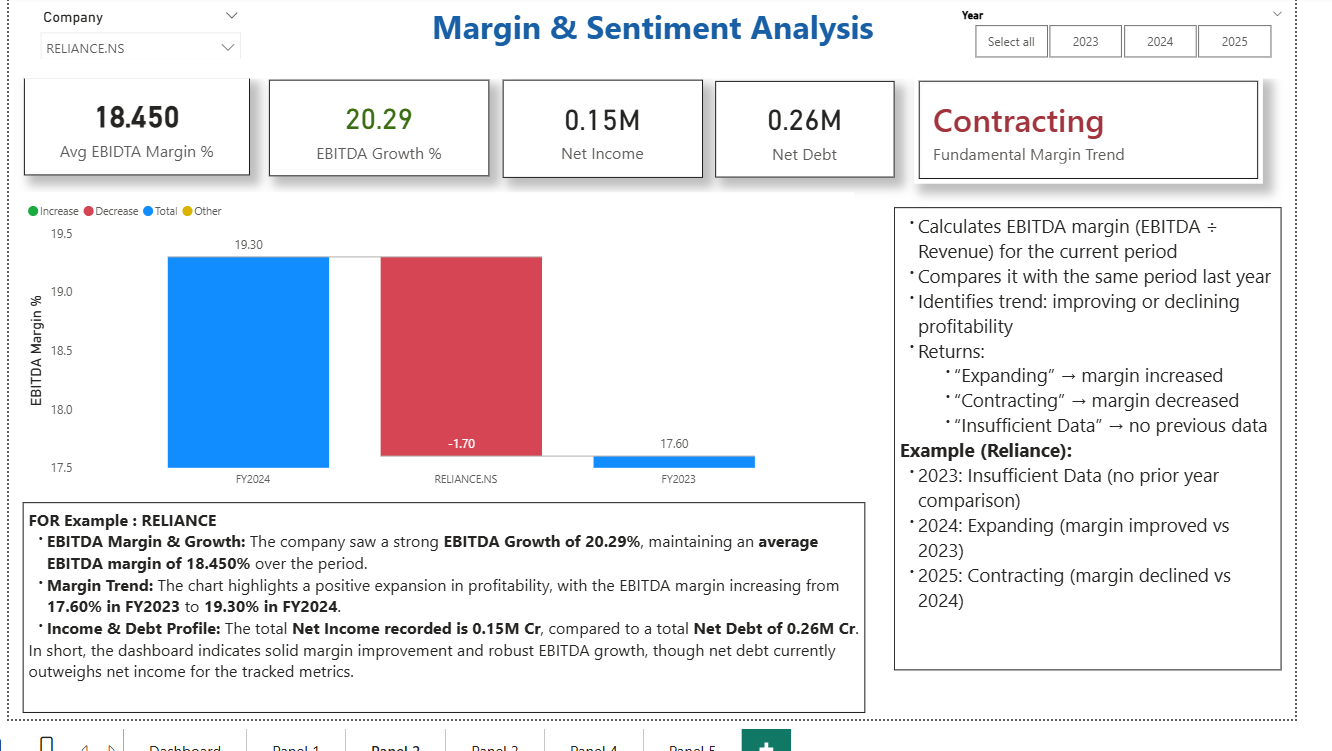

The dashboard page shown, as its layout file describes it:
{"tool":"powerbi","page":{"name":"Panel 2","canvas":[1280,720],"ordinal":2},"visuals":[{"type":"card","fields":{"Values":["Avg(Fact_Fundamentals.EBITDA_Margin_Pct)"]},"box":[15.1,81,225,97.4],"z":0},{"type":"card","fields":{"Values":["Fact_Fundamentals.EBITDA Growth %"]},"box":[259.3,83.7,219.6,96.1],"z":1000},{"type":"card","fields":{"Values":["Sum(Fact_Fundamentals.Net_Income_Cr)"]},"box":[491.3,83.7,199,97.4],"z":2000},{"type":"card","fields":{"Values":["Sum(Fact_Fundamentals.Net_Debt_Cr)"]},"box":[702.6,85.1,178.4,96.1],"z":3000},{"type":"textbox","box":[13.7,503.6,838.4,209.9],"z":4000},{"type":"cardVisual","fields":{"Data":["Fact_Fundamentals.1_Fundamental_Margin_Trend"]},"box":[900.2,79.6,347.2,107],"z":5000},{"type":"textbox","box":[881,209.9,385.6,461.1],"z":6000},{"type":"textbox","box":[15,3.3,1251.7,78.3],"z":7000},{"type":"slicer","fields":{"Values":["Dim_Company.Ticker"]},"box":[20.6,6.9,219.6,54.9],"z":8000},{"type":"waterfallChart","fields":{"Category":["Fact_Fundamentals.Fiscal_Year"],"Y":["Sum(Fact_Fundamentals.EBITDA_Margin_Pct)"],"Breakdown":["Dim_Company.Ticker"]},"box":[13.7,194.9,827.4,301.9],"z":9000},{"type":"slicer","fields":{"Values":["Dim_Date.Year"]},"box":[935.6,6.9,344.4,60.4],"z":10000}]}

Visuals, with their boxes on the page's 1280x720 design canvas (x1, y1, x2, y2). These are canvas units, not pixel positions in the 1332x751 screenshot, which may show the page scaled, cropped or inside an application window:
card - Avg(Fact_Fundamentals.EBITDA_Margin_Pct): [15, 81, 240, 178]
card - Fact_Fundamentals.EBITDA Growth %: [259, 84, 479, 180]
card - Sum(Fact_Fundamentals.Net_Income_Cr): [491, 84, 690, 181]
card - Sum(Fact_Fundamentals.Net_Debt_Cr): [703, 85, 881, 181]
textbox: [14, 504, 852, 714]
cardVisual - Fact_Fundamentals.1_Fundamental_Margin_Trend: [900, 80, 1247, 187]
textbox: [881, 210, 1267, 671]
textbox: [15, 3, 1267, 82]
slicer - Dim_Company.Ticker: [21, 7, 240, 62]
waterfallChart - Fact_Fundamentals.Fiscal_Year x Sum(Fact_Fundamentals.EBITDA_Margin_Pct): [14, 195, 841, 497]
slicer - Dim_Date.Year: [936, 7, 1280, 67]
